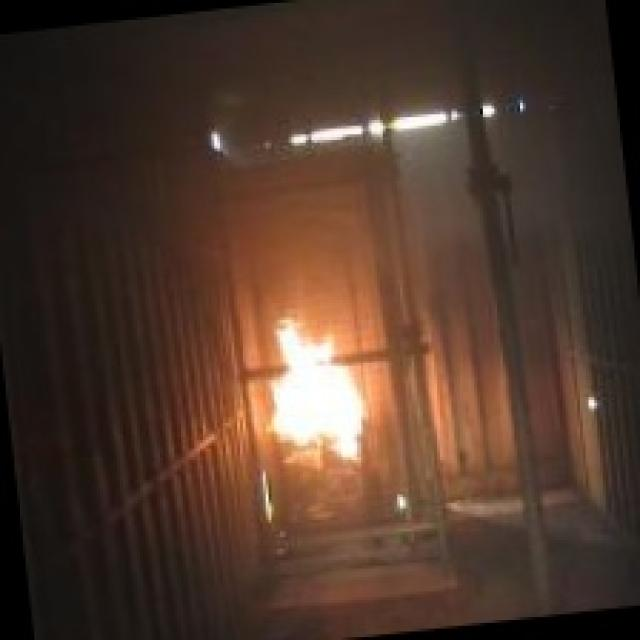fire: (250, 271, 373, 466)
